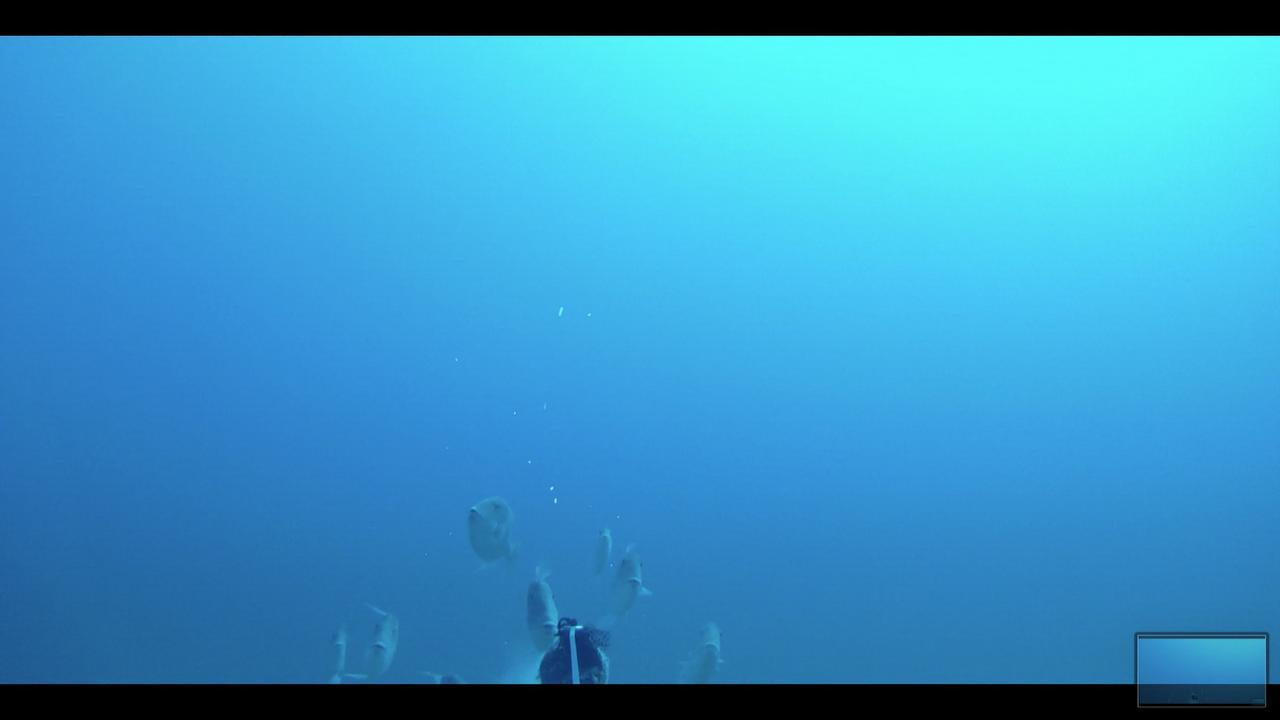balistes: (458, 488, 528, 578), (594, 543, 658, 630), (345, 594, 400, 680), (523, 552, 566, 655)
